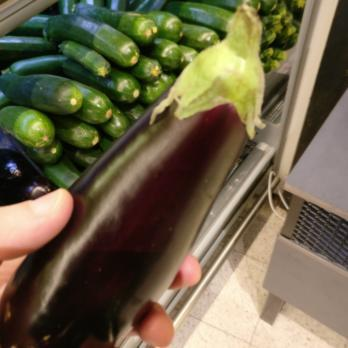Brinjal: (37, 197, 180, 267), (2, 269, 134, 343), (95, 152, 219, 196), (142, 105, 228, 153), (182, 67, 244, 104), (177, 193, 199, 246), (222, 31, 256, 63), (232, 6, 258, 33), (66, 181, 102, 198)
